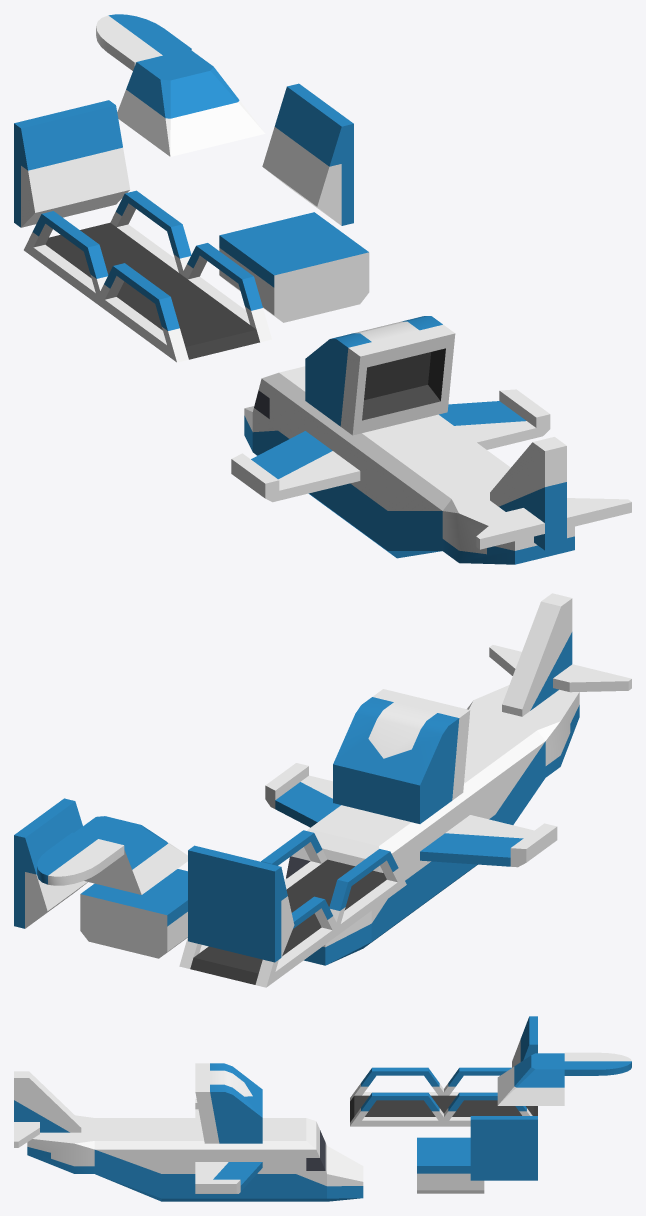
Rendered from ChrisBlueLevel6.fbx.
3 renders of one model, top to bottom at view 1: azimuth 30°, elevation 25°; view 2: azimuth 150°, elevation 25°; view 3: azimuth 270°, elevation 25°, orthographic. The views are drawn at different scales.
Parts seen in each view (by area): view 1: engine_intakeArrow_6, ship_cargoOpen_16, ship_sidePanel_21, ship_hull_17, ship_cargoFront_19, ship_cargoOpen_15, ship_sidePanel_18, plane_end_7, plane_rudderLarge_10, plane_body_0, wind_endLow_11, ship_frontSquare_8 (+4 smaller); view 2: engine_intakeArrow_6, ship_sidePanel_21, plane_rudderLarge_10, ship_hull_17, ship_cargoOpen_16, plane_end_7, plane_body_1, ship_cargoOpen_15, ship_sidePanel_18, wind_endLow_11, plane_cockpitClassic_3, ship_cargoFront_19 (+4 smaller); view 3: engine_intakeArrow_6, plane_end_7, ship_sidePanel_18, ship_cargoOpen_16, plane_cockpitClassic_3, plane_body_1, plane_body_0, ship_hull_17, ship_cargoFront_19, plane_rudderLarge_10, ship_cargoOpen_15, ship_frontSquare_8 (+3 smaller).
Part boxes in pixels (left/top/right/bottom): engine_intakeArrow_6: left=305, top=316, right=455, bottom=435; ship_cargoOpen_16: left=95, top=243, right=271, bottom=362; ship_sidePanel_21: left=14, top=100, right=130, bottom=227; ship_hull_17: left=219, top=212, right=369, bottom=322; ship_cargoFront_19: left=117, top=49, right=265, bottom=156; ship_cargoOpen_15: left=24, top=190, right=191, bottom=309; ship_sidePanel_18: left=262, top=83, right=353, bottom=225; plane_end_7: left=387, top=440, right=510, bottom=558; plane_rudderLarge_10: left=476, top=437, right=631, bottom=550; plane_body_0: left=333, top=414, right=472, bottom=556; wind_endLow_11: left=231, top=431, right=360, bottom=502; ship_frontSquare_8: left=442, top=489, right=574, bottom=564; engine_intakeArrow_6: left=333, top=689, right=470, bottom=823; ship_sidePanel_21: left=188, top=845, right=294, bottom=962; plane_rudderLarge_10: left=489, top=593, right=631, bottom=716; ship_hull_17: left=80, top=869, right=187, bottom=958; ship_cargoOpen_16: left=261, top=830, right=406, bottom=937; plane_end_7: left=466, top=714, right=545, bottom=824; plane_body_1: left=316, top=805, right=444, bottom=928; ship_cargoOpen_15: left=179, top=896, right=341, bottom=987; ship_sidePanel_18: left=14, top=798, right=87, bottom=928; wind_endLow_11: left=420, top=815, right=557, bottom=867; plane_cockpitClassic_3: left=286, top=823, right=394, bottom=965; ship_cargoFront_19: left=74, top=816, right=187, bottom=894; engine_intakeArrow_6: left=195, top=1063, right=262, bottom=1143; plane_end_7: left=94, top=1118, right=161, bottom=1201; ship_sidePanel_18: left=470, top=1116, right=537, bottom=1180; ship_cargoOpen_16: left=350, top=1067, right=449, bottom=1126; plane_cockpitClassic_3: left=296, top=1118, right=363, bottom=1201; plane_body_1: left=229, top=1118, right=295, bottom=1201; plane_body_0: left=161, top=1118, right=228, bottom=1201; ship_hull_17: left=417, top=1137, right=484, bottom=1193; ship_cargoFront_19: left=497, top=1053, right=564, bottom=1105; plane_rudderLarge_10: left=14, top=1071, right=81, bottom=1147; ship_cargoOpen_15: left=437, top=1067, right=537, bottom=1126; ship_frontSquare_8: left=27, top=1115, right=94, bottom=1173.
Bounding box in the file's own units: 33 × 24 × 92.
